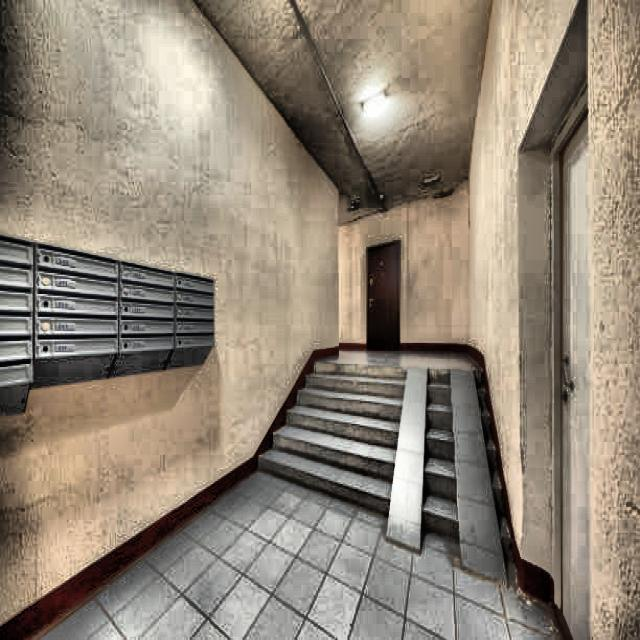escada: (258, 363, 404, 516)
